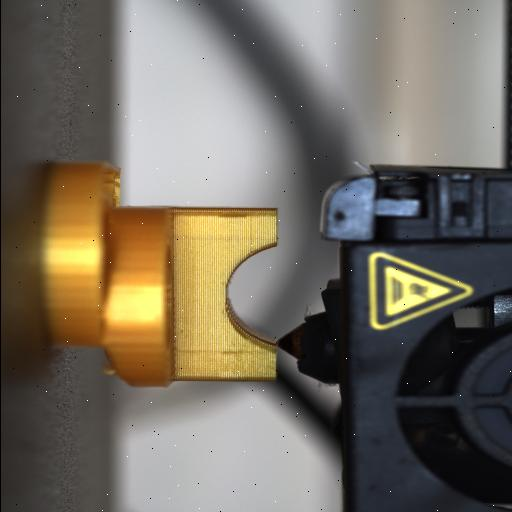layer_shift: (85, 159, 137, 389)
